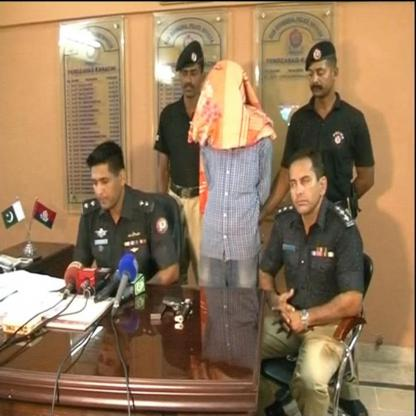face: (291, 161, 315, 211), (92, 162, 115, 207), (309, 55, 332, 96), (182, 56, 204, 96)
